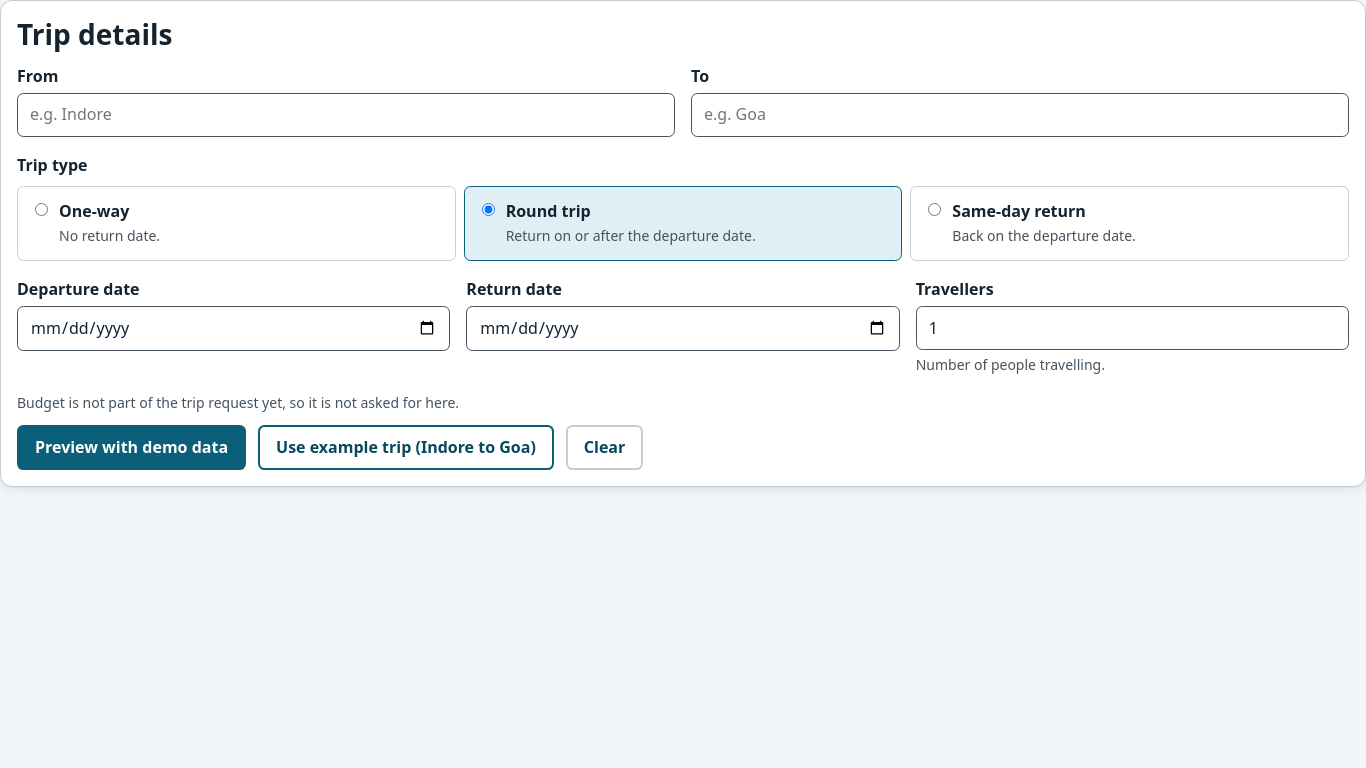
it: TripForm validation › a return date before departure is explained
Type "Indore" into the field labelled "From".
click(346, 115); type("Indore")  # box [17, 93, 675, 137]
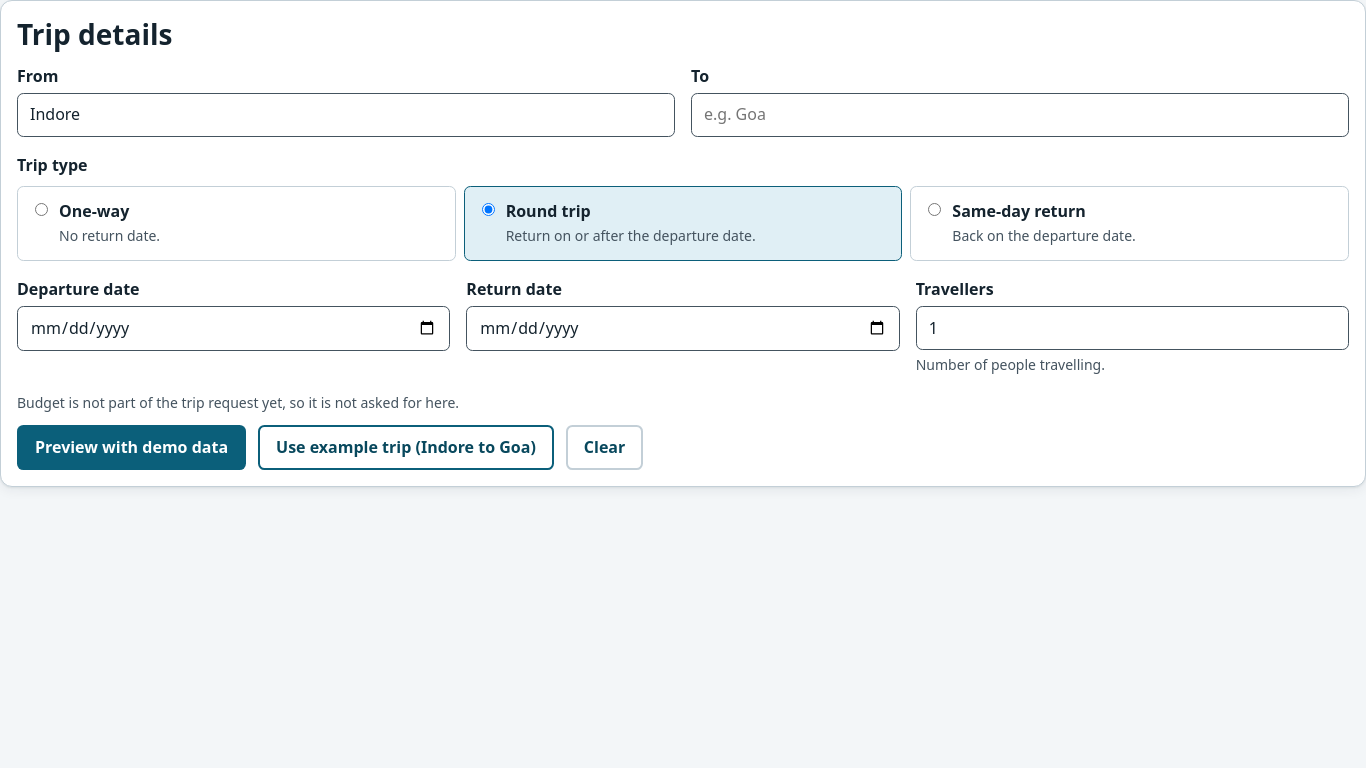
Type "Goa" into the field labelled "To".
click(1020, 115); type("Goa")  # box [691, 93, 1349, 137]
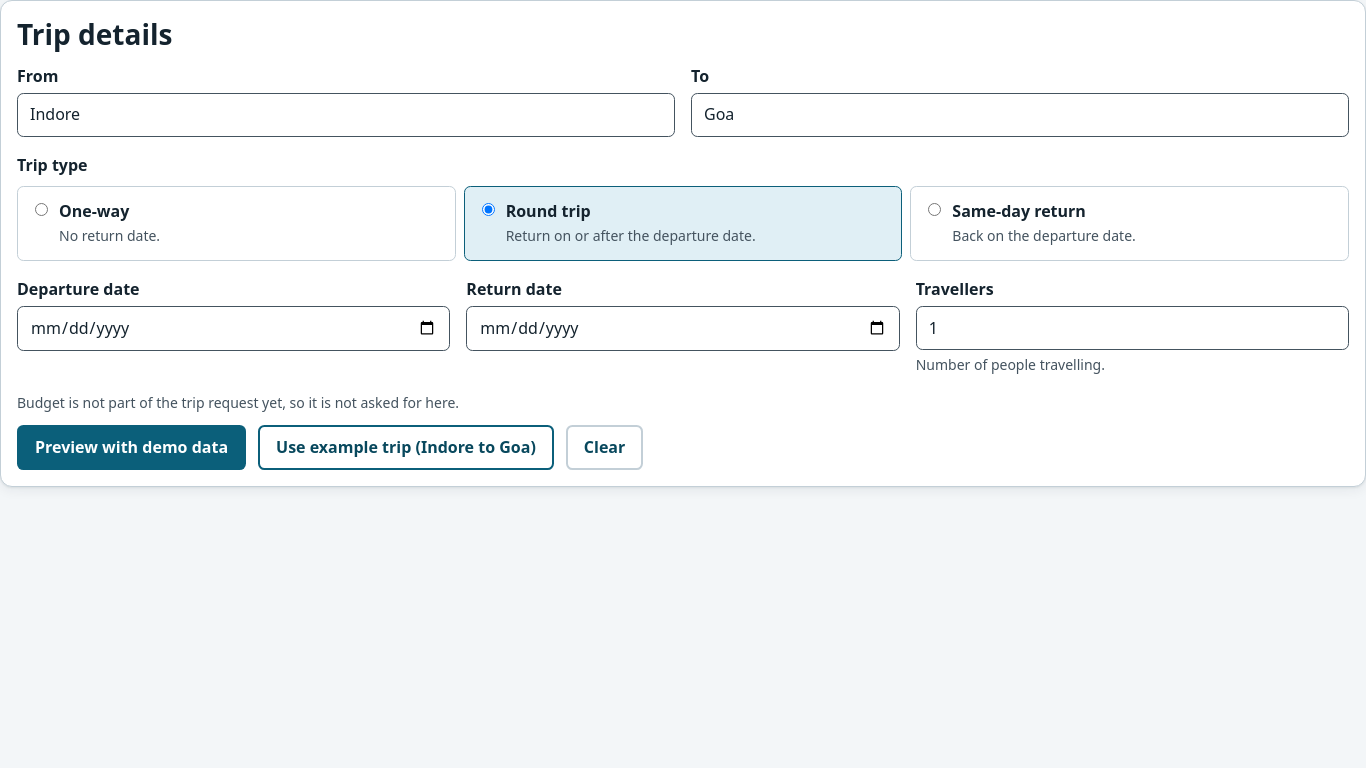
Type "2026-12-05" into the date field labelled "Departure date".
click(234, 328); type("2026-12-05")  # box [17, 306, 450, 351]
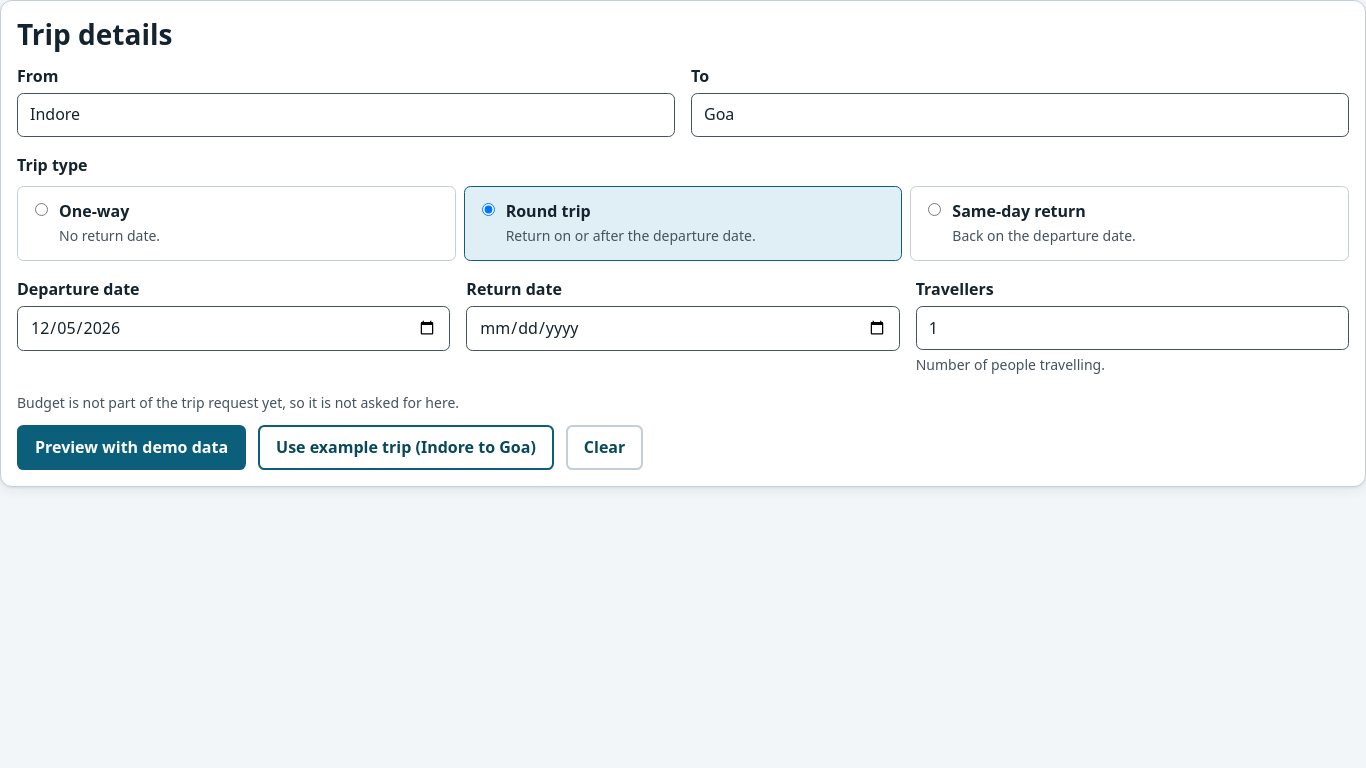
Type "2026-12-01" into the date field labelled "Return date".
click(683, 328); type("2026-12-01")  # box [466, 306, 900, 351]
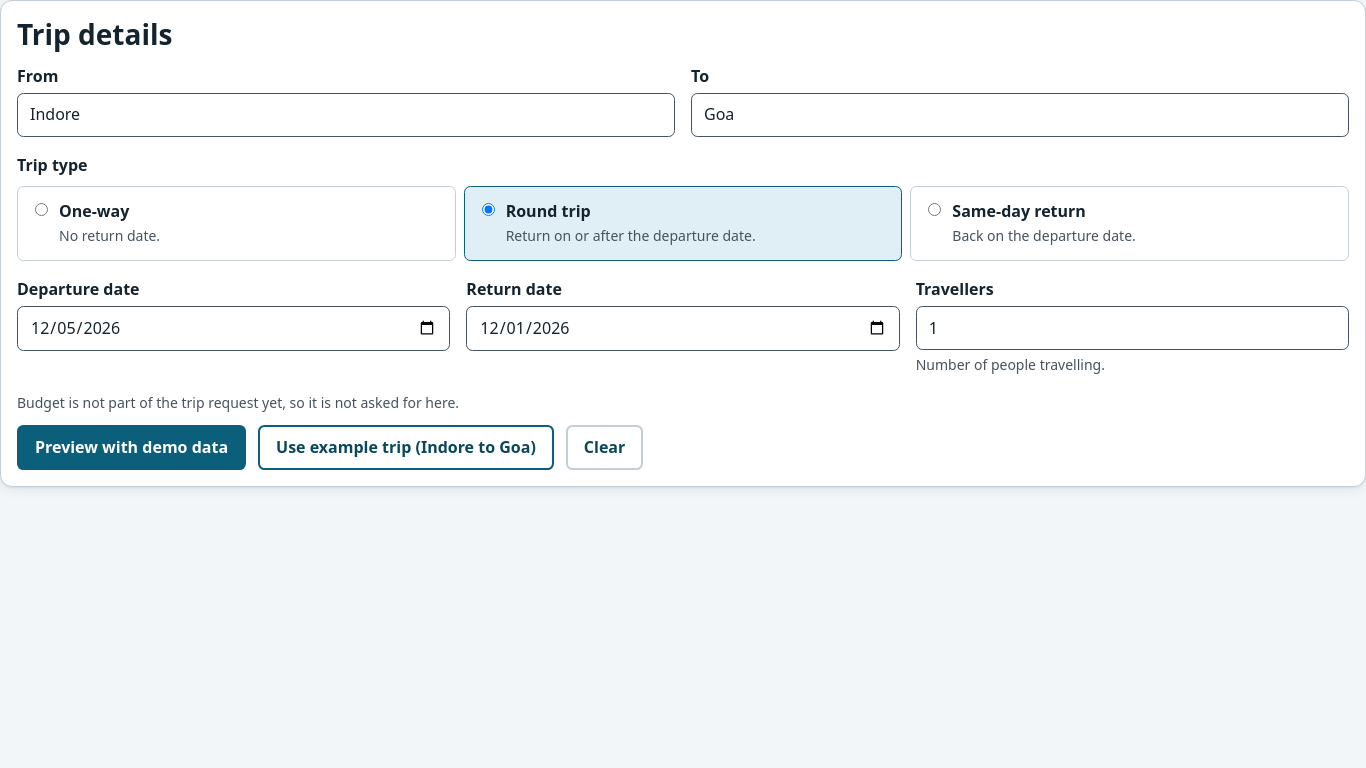
Click the button "Preview with demo data".
click(132, 448)  # box [17, 425, 246, 470]
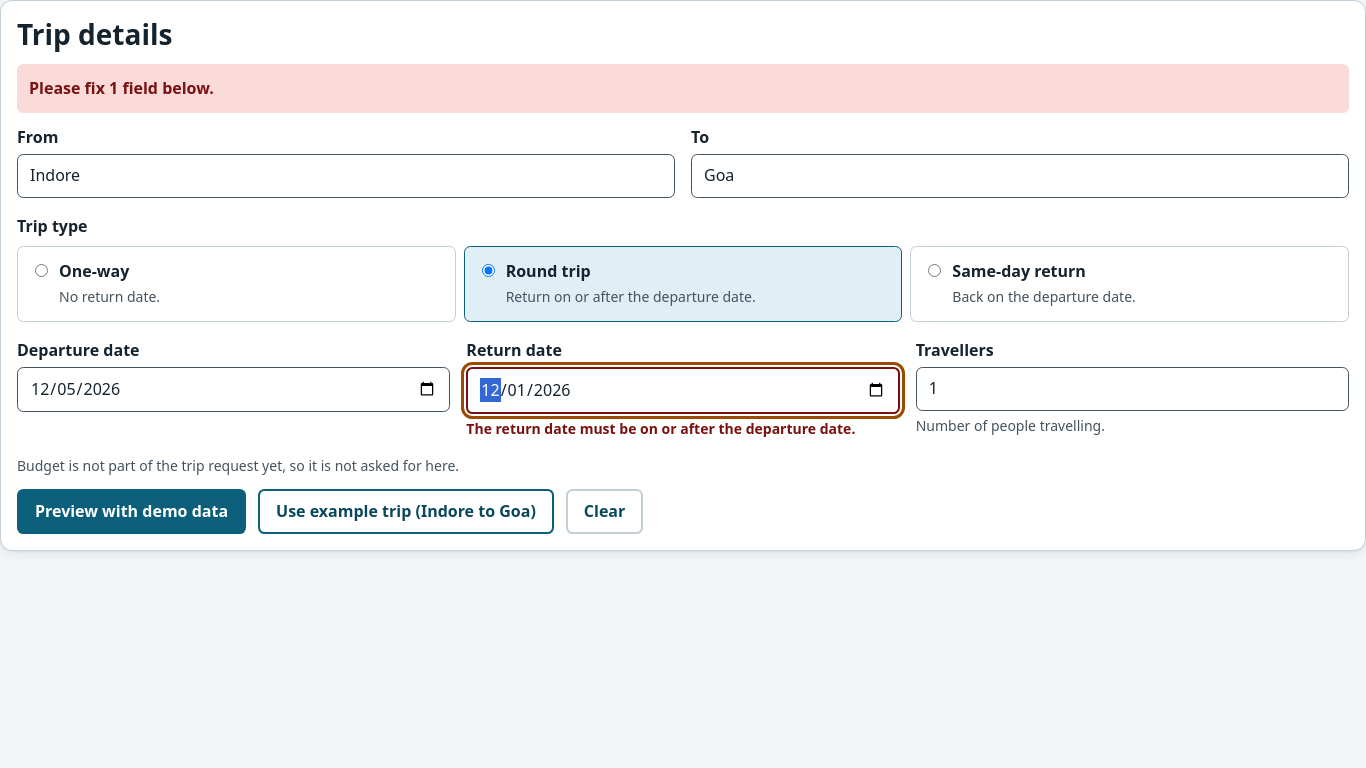
Now the text "The return date must be on or after the departure date." is shown, box [466, 418, 900, 439]
